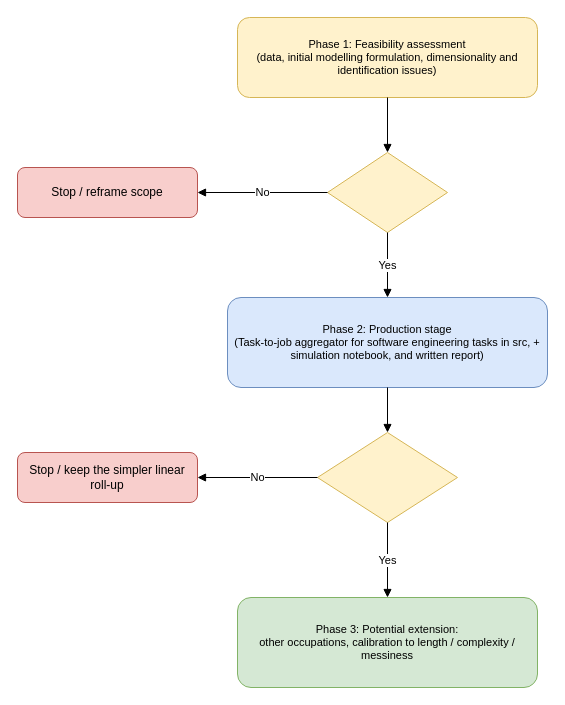
Image size: 565x705. Some labels were removed from this diagram. Here are the shapes that lost their labels. From the top down, the centre of each, then its label:
the point at 387,192: Feasible?
the point at 387,477: Changes the conclusion vs. linear roll-up?
